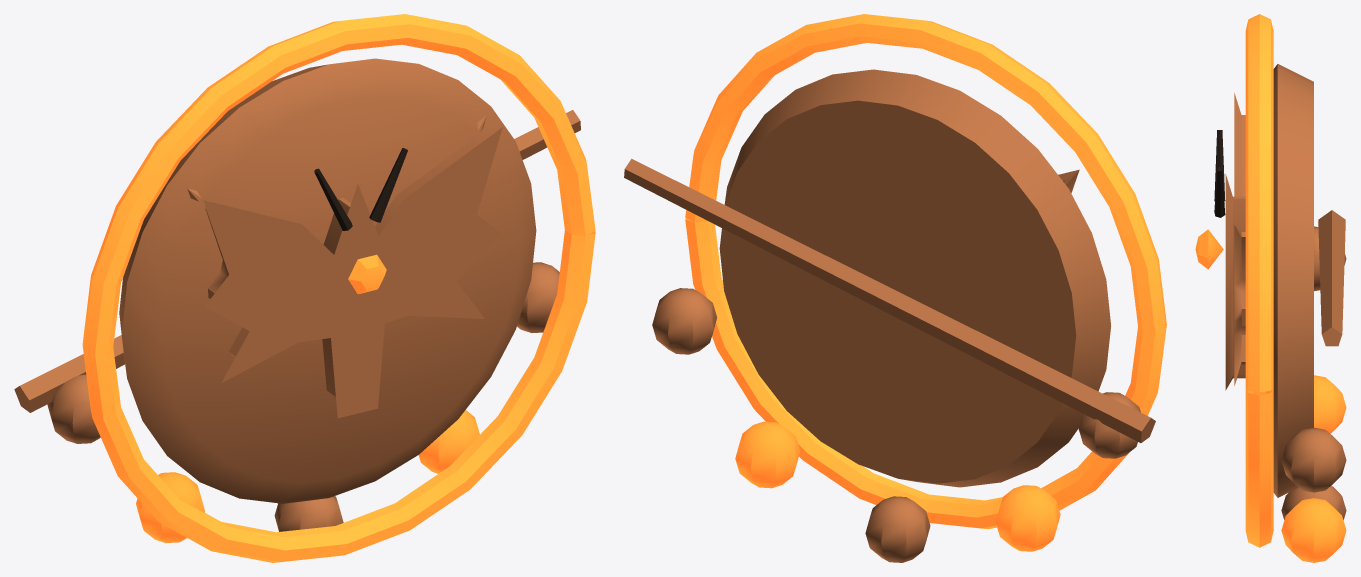
File: asc_elder_wyrm_talon_accessory.glb
3 renders of one model, left to right at view 1: azimuth 30°, elevation 25°; view 2: azimuth 150°, elevation 25°; view 3: azimuth 270°, elevation 25°, orthographic. The views are drawn at different scales.
Visible parts, largest first — view 1: asc_elder_wyrm_talon_accessory; view 2: asc_elder_wyrm_talon_accessory; view 3: asc_elder_wyrm_talon_accessory.
Part boxes in pixels (x1,y1,x2,y2): asc_elder_wyrm_talon_accessory: [14, 14, 595, 562]; asc_elder_wyrm_talon_accessory: [624, 14, 1166, 562]; asc_elder_wyrm_talon_accessory: [1195, 14, 1346, 562].
Size of the model in its own units: 0.1616 by 0.153 by 0.0417.
